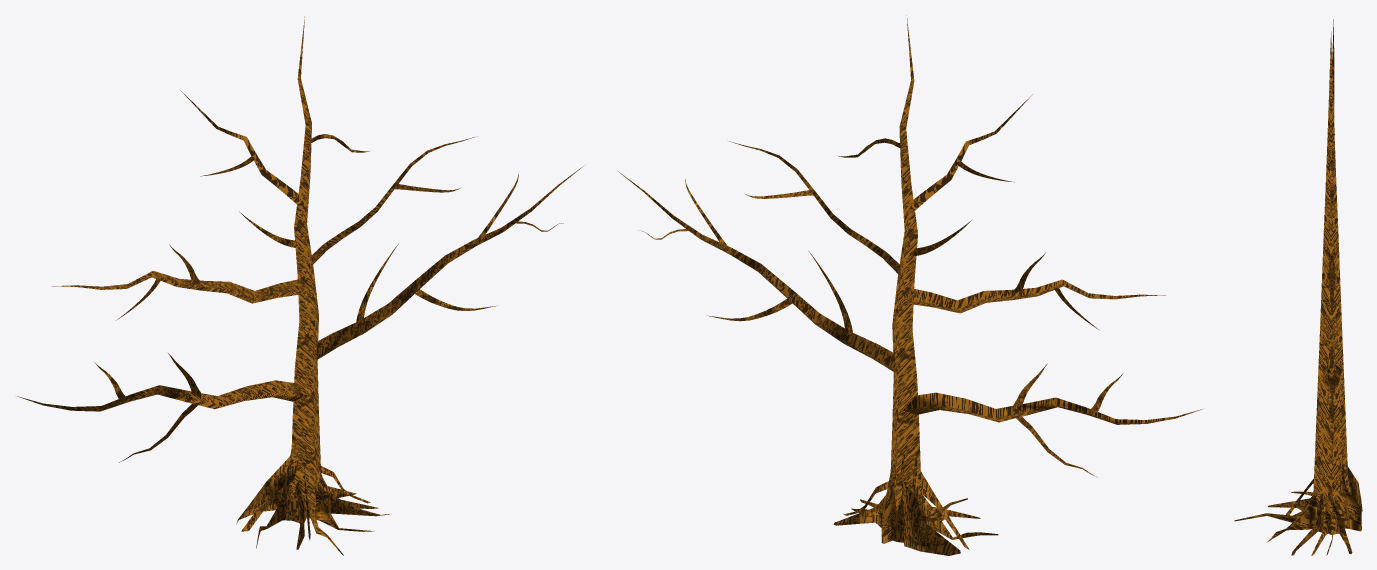
Rendered from tree_only.obj.
The picture shows the model from 3 angles, left to right: view 1: azimuth 30°, elevation 25°; view 2: azimuth 150°, elevation 25°; view 3: azimuth 270°, elevation 25°; orthographic projection. The views are drawn at different scales.
Parts seen in each view (by area): view 1: polySurface1; view 2: polySurface1; view 3: polySurface1.
Boxes of the visible parts, x1,y1,x2,y2 form: polySurface1: (17, 16, 584, 555); polySurface1: (618, 15, 1202, 555); polySurface1: (1234, 19, 1362, 555).
Bounding box in the file's own units: 172 × 145 × 33.76.
Materials: 1 (1 with a texture image).
